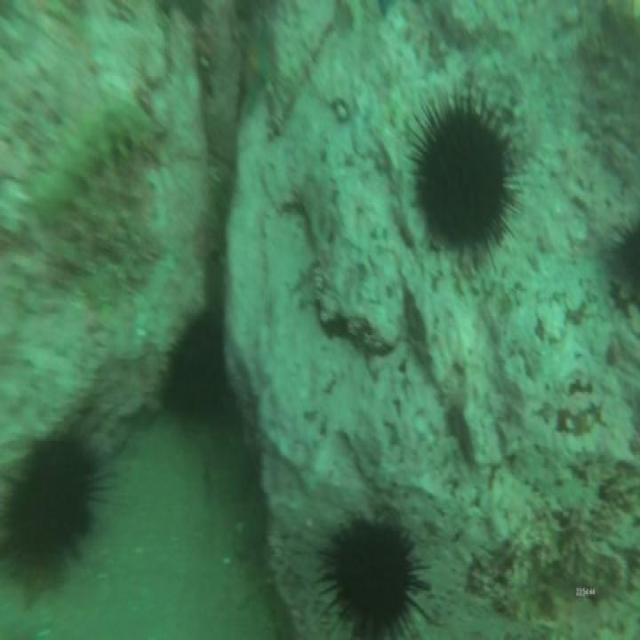echinus: (417, 101, 510, 248), (5, 441, 91, 586), (324, 518, 418, 636), (164, 317, 226, 418)
holothurian: (29, 98, 151, 218)
scallop: (223, 555, 232, 567), (134, 545, 142, 553)
starfish: (244, 25, 270, 111)
